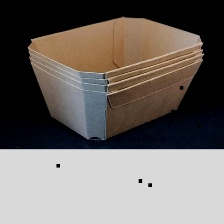book: (22, 10, 208, 145)
